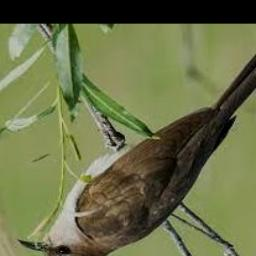Cuckoo: (17, 31, 256, 256)
